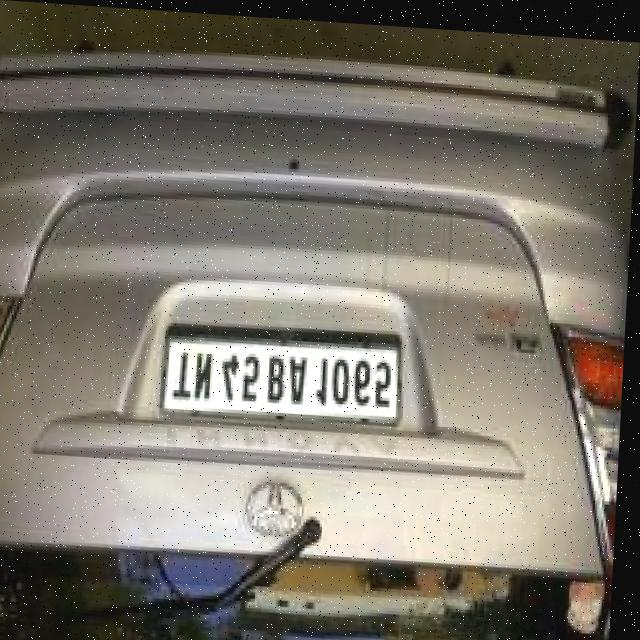plate: (167, 311, 408, 423)
